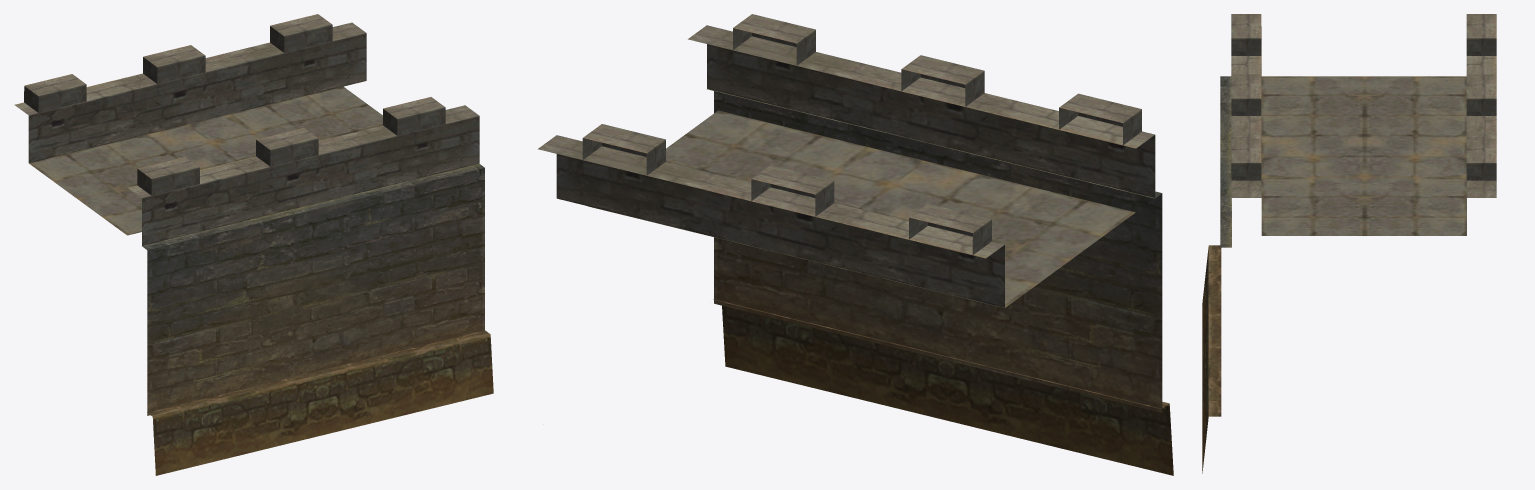
Rendered from yw_yanmenguan_chengqiang01.FBX.
The picture shows the model from 3 angles, left to right: view 1: azimuth 30°, elevation 25°; view 2: azimuth 150°, elevation 25°; view 3: azimuth 270°, elevation 25°; orthographic projection. The views are drawn at different scales.
Parts seen in each view (by area): view 1: yw_yanmenguan_chengqiang01; view 2: yw_yanmenguan_chengqiang01; view 3: yw_yanmenguan_chengqiang01.
Part boxes in pixels (bbox=[...]): yw_yanmenguan_chengqiang01: bbox=[14, 14, 493, 475]; yw_yanmenguan_chengqiang01: bbox=[538, 14, 1173, 475]; yw_yanmenguan_chengqiang01: bbox=[1202, 14, 1496, 473].
Bounding box in the file's own units: 755 × 607 × 593.
